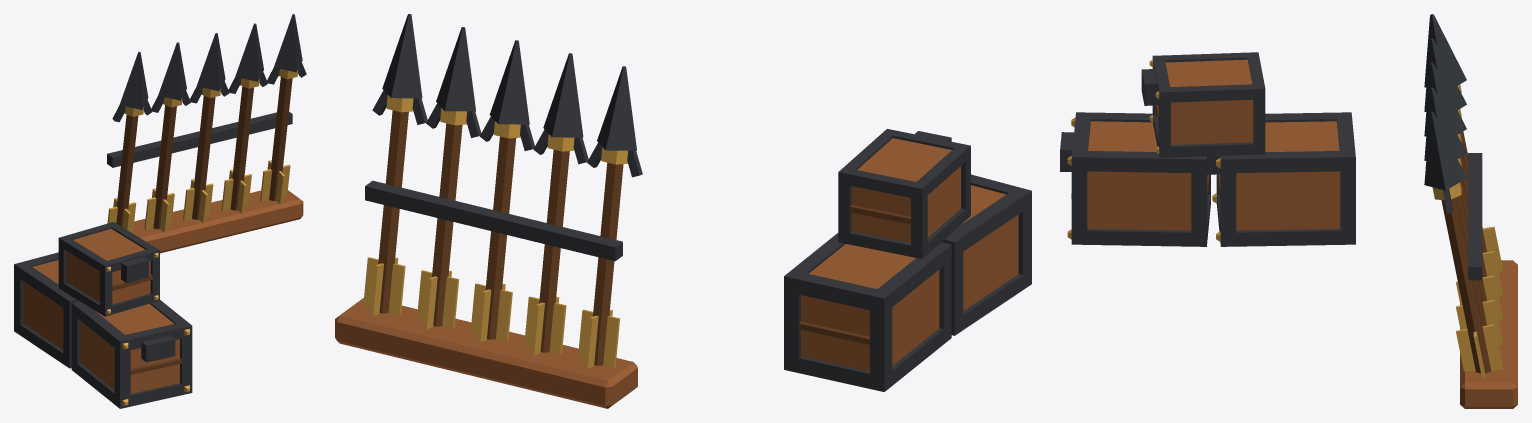
File: HarpoonDressA1.obj
3 views of the same model, side by side, from view 1: azimuth 30°, elevation 25°; view 2: azimuth 150°, elevation 25°; view 3: azimuth 270°, elevation 25° (orthographic). The views are drawn at different scales.
Visible parts, largest first — view 1: HarpoonDressA1; view 2: HarpoonDressA1; view 3: HarpoonDressA1.
Part boxes in pixels (x1,y1,x2,y2): HarpoonDressA1: (14,14,306,408); HarpoonDressA1: (335,14,1031,408); HarpoonDressA1: (1060,14,1517,408).
Size of the model in its own units: 1.04 by 0.6501 by 0.9486.
